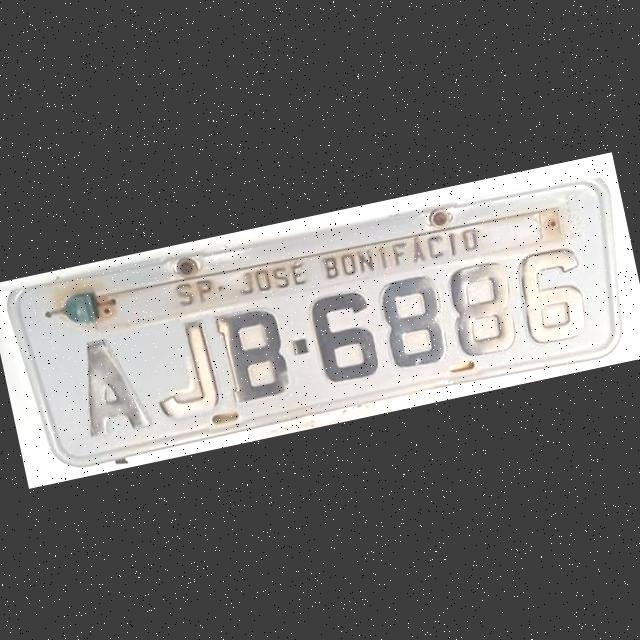Caractere: (68, 327, 158, 442), (511, 240, 596, 346), (140, 314, 222, 422), (441, 256, 522, 361), (214, 300, 295, 404), (304, 284, 386, 386), (372, 270, 452, 372)
Placa: (0, 159, 640, 480)
